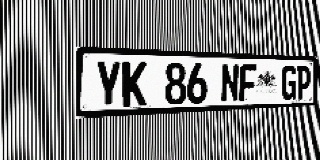6: (187, 63, 208, 104)
8: (165, 62, 187, 105)
F: (239, 64, 257, 102)
G: (281, 65, 297, 100)
K: (122, 61, 147, 107)
N: (221, 64, 239, 103)
P: (296, 66, 311, 99)
Y: (95, 61, 121, 108)
